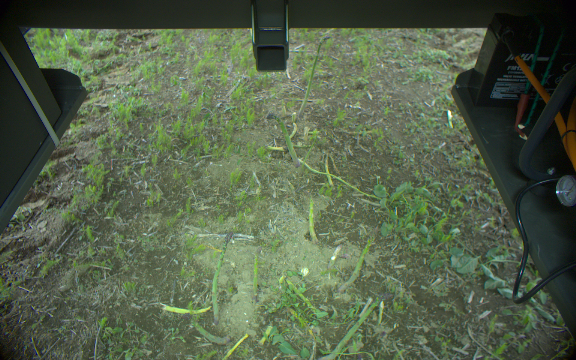aspa: (320, 291, 395, 360), (206, 231, 237, 324), (297, 33, 333, 113), (337, 236, 374, 294), (266, 112, 300, 167), (183, 314, 232, 348), (305, 194, 317, 245), (252, 245, 261, 298)
